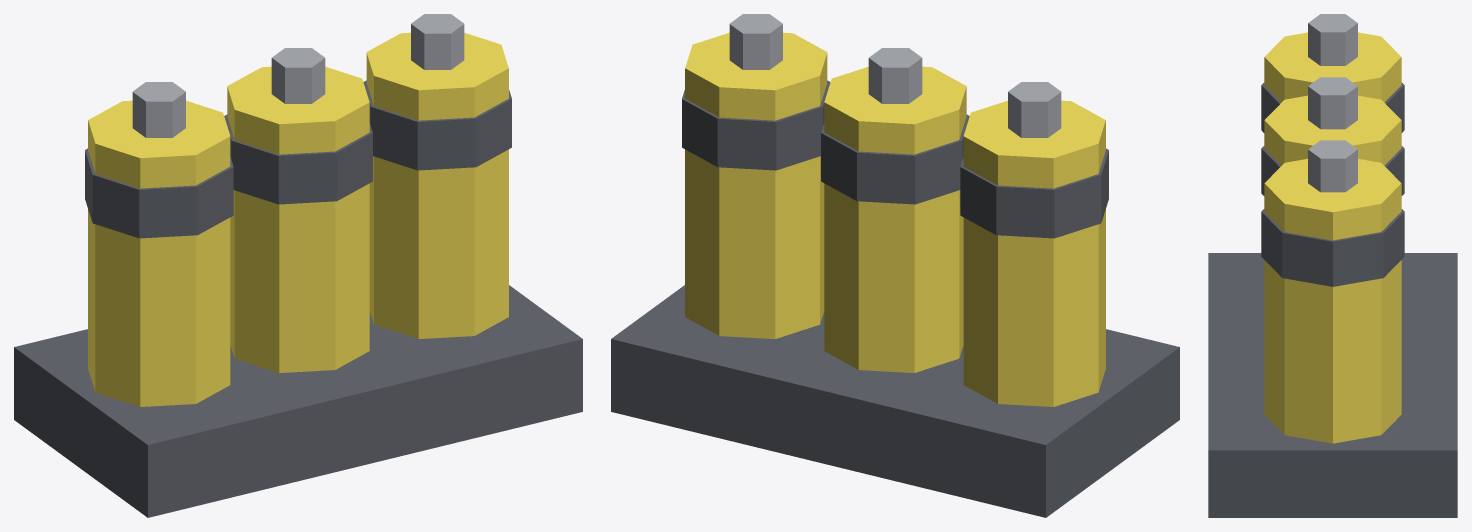
Rendered from battery.glb.
The picture shows the model from 3 angles, left to right: view 1: azimuth 30°, elevation 25°; view 2: azimuth 150°, elevation 25°; view 3: azimuth 270°, elevation 25°; orthographic projection. The views are drawn at different scales.
Visible parts, largest first — view 1: battery; view 2: battery; view 3: battery.
Part boxes in pixels (<box>): battery: <box>14,14,582,517</box>; battery: <box>611,14,1179,517</box>; battery: <box>1208,14,1457,517</box>.
Size of the model in its own units: 0.75 by 0.59 by 0.4.
